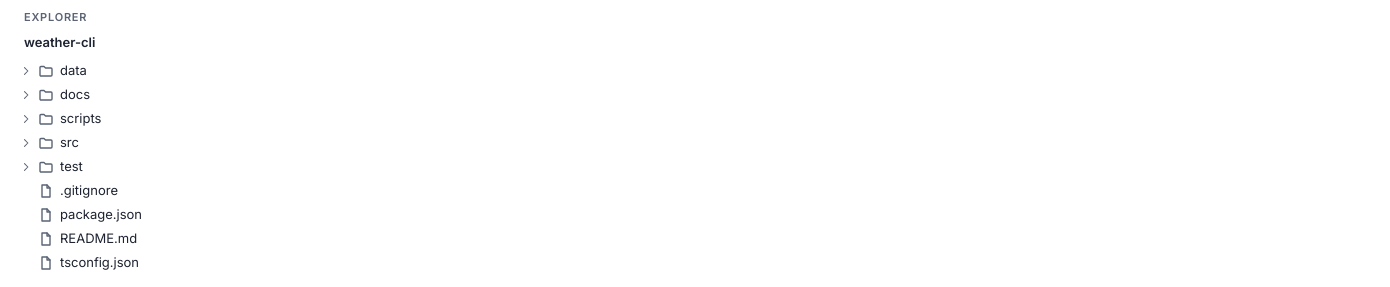
ExplorerContextMenu › opens once per right-click on a row (the explorer hand-off, not a second DOM listener)
Right-click the button with test id "tree-row-package.json" at (101, 214), box [12,203,1378,227]
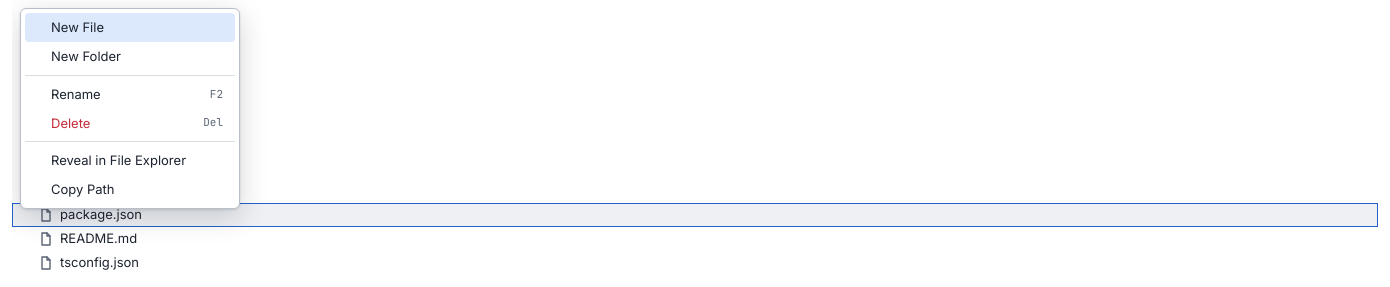
Now the number of menus is 1, box [20,8,240,209]
Now the menu item with test id "ctx-rename" is enabled, box [25,80,235,108]
